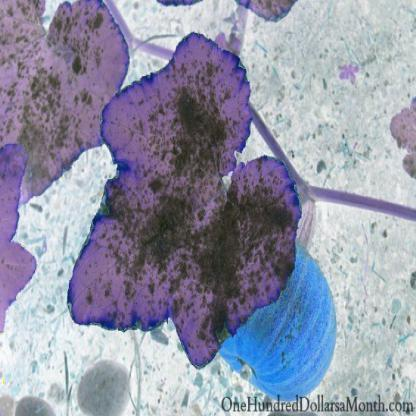Squash Powdery mildew leaf: (70, 26, 302, 379)
